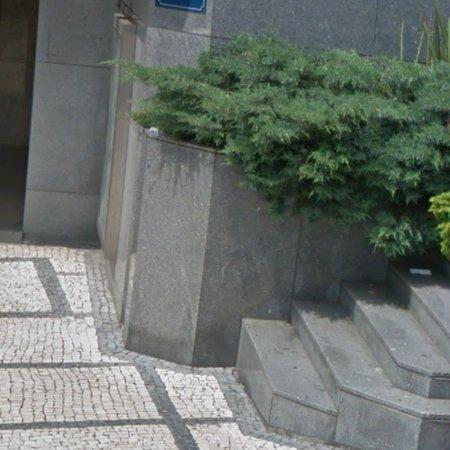stairs: (238, 270, 450, 450)
